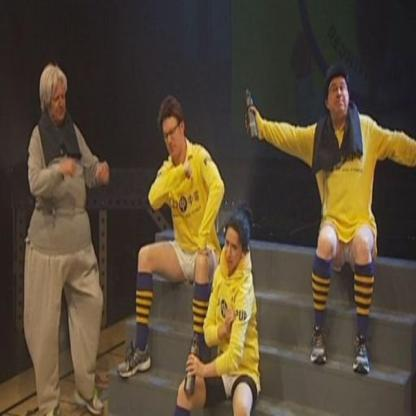face: (329, 80, 349, 116), (164, 122, 182, 157), (51, 83, 66, 122), (227, 234, 241, 270)
